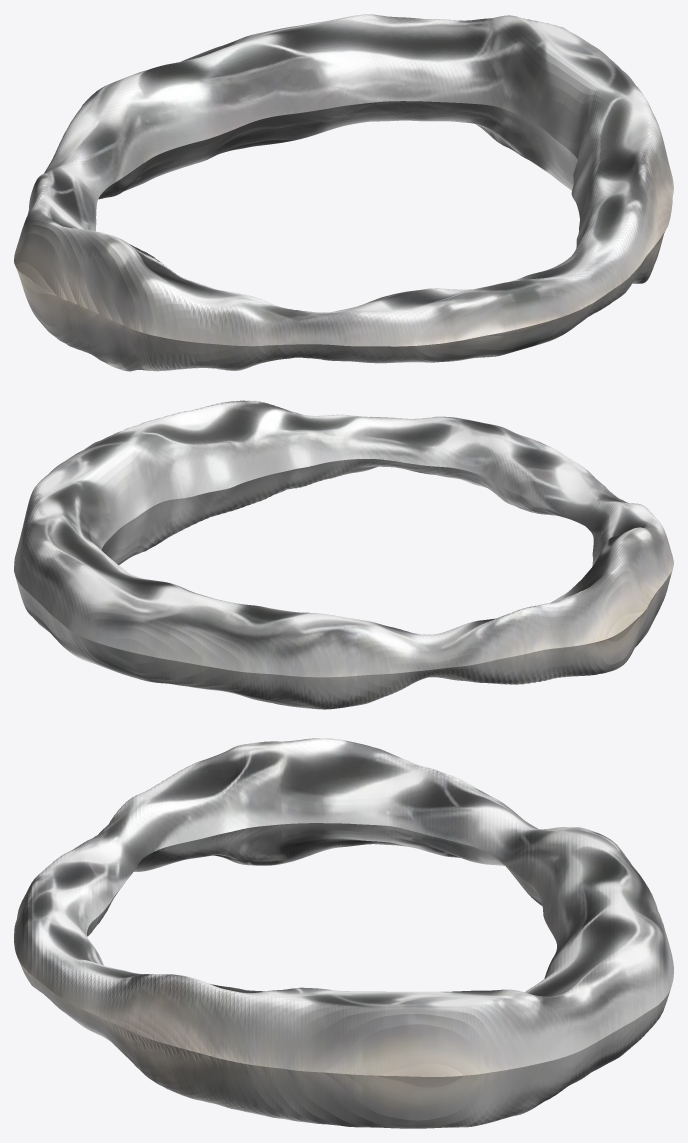
File: plasmabracelet.glb
3 views of the same model, one above another, from view 1: azimuth 30°, elevation 25°; view 2: azimuth 150°, elevation 25°; view 3: azimuth 270°, elevation 25° (orthographic). The views are drawn at different scales.
Bounding box in the file's own units: 0.0463 × 0.00889 × 0.0441.
1 material, 1 textured.
